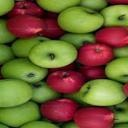apple: (1, 58, 45, 86)
